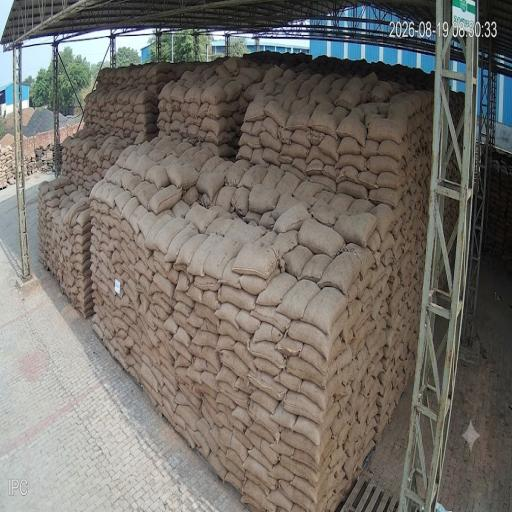Rice-bag-10: (288, 310, 347, 359), (303, 288, 347, 336), (294, 405, 339, 445), (319, 252, 361, 294), (298, 220, 344, 257), (281, 428, 331, 462), (203, 238, 243, 278), (278, 280, 319, 319), (287, 356, 336, 388), (284, 391, 333, 423), (299, 337, 341, 373), (233, 244, 277, 278), (335, 212, 377, 247), (188, 235, 222, 275), (299, 375, 337, 409), (257, 273, 296, 305), (165, 224, 197, 261), (249, 335, 284, 367), (156, 218, 187, 254), (282, 455, 319, 485), (251, 305, 291, 332), (249, 403, 279, 439), (244, 478, 276, 511), (176, 234, 206, 269), (274, 204, 311, 232), (244, 456, 276, 488), (249, 371, 285, 399), (166, 160, 198, 190), (139, 209, 172, 238), (281, 482, 314, 511), (368, 118, 406, 143), (337, 114, 367, 145), (149, 185, 181, 214), (186, 203, 218, 232), (309, 104, 337, 137), (145, 215, 172, 249), (226, 219, 264, 243), (284, 245, 312, 277), (197, 169, 224, 202), (220, 285, 255, 310), (301, 254, 332, 282), (250, 184, 279, 213), (273, 194, 305, 220), (371, 204, 395, 238), (347, 244, 375, 273), (221, 350, 248, 380), (219, 320, 251, 344), (218, 403, 245, 430), (219, 382, 248, 407), (287, 104, 314, 130), (311, 200, 338, 225), (292, 447, 320, 471), (173, 308, 196, 337), (197, 418, 218, 449), (264, 101, 289, 127), (294, 181, 322, 204), (254, 322, 283, 343), (292, 476, 317, 500), (271, 403, 296, 427), (174, 391, 199, 415), (216, 302, 239, 328), (240, 165, 266, 188), (251, 390, 278, 412), (220, 258, 240, 287), (201, 118, 230, 138), (275, 231, 297, 257), (378, 139, 404, 161), (370, 188, 400, 207), (234, 342, 255, 369), (236, 310, 260, 333), (195, 303, 219, 326), (201, 81, 225, 104), (240, 274, 267, 294), (368, 156, 398, 174), (307, 146, 335, 165), (226, 162, 249, 185), (250, 447, 272, 471), (130, 204, 147, 235), (275, 371, 301, 391), (231, 429, 247, 461), (269, 489, 292, 511), (276, 172, 300, 193), (206, 103, 237, 119), (202, 346, 221, 372), (232, 187, 249, 216), (320, 135, 338, 162), (154, 272, 174, 296), (137, 183, 157, 207), (193, 329, 218, 348), (216, 186, 235, 211), (207, 217, 233, 235), (339, 182, 368, 198), (177, 406, 198, 428), (250, 423, 273, 443), (217, 364, 236, 388), (260, 439, 278, 464), (208, 453, 226, 478), (339, 154, 365, 171), (262, 166, 283, 187), (255, 357, 279, 375), (330, 193, 354, 211), (260, 131, 281, 151), (204, 143, 234, 157), (338, 136, 360, 155), (270, 463, 293, 481), (224, 79, 242, 102), (142, 363, 157, 390), (310, 175, 335, 191), (122, 197, 139, 220), (282, 143, 308, 158), (205, 131, 232, 145), (195, 431, 210, 456), (282, 165, 307, 180), (135, 258, 152, 280), (377, 172, 400, 188), (195, 275, 219, 290), (106, 186, 123, 207), (115, 190, 132, 211), (348, 199, 373, 213), (358, 171, 377, 189), (246, 102, 264, 121), (292, 130, 311, 148), (202, 290, 219, 310), (159, 81, 176, 101), (337, 166, 358, 182), (176, 291, 194, 309), (233, 408, 251, 426), (217, 392, 236, 409), (240, 134, 261, 149), (263, 117, 278, 138), (204, 396, 216, 422), (194, 358, 216, 372), (251, 148, 268, 166), (169, 85, 187, 102), (187, 283, 203, 302), (275, 440, 294, 456), (183, 186, 199, 205), (172, 200, 189, 217), (201, 371, 216, 390), (246, 428, 261, 447), (175, 327, 190, 346), (121, 220, 134, 241), (367, 230, 380, 251), (175, 301, 192, 317), (236, 377, 253, 393), (307, 159, 324, 175), (362, 140, 378, 157), (90, 180, 104, 199), (381, 232, 394, 252), (264, 148, 280, 164), (218, 335, 235, 350), (187, 365, 202, 382), (189, 310, 203, 328), (308, 130, 324, 145), (185, 86, 200, 102), (177, 272, 189, 291), (220, 427, 232, 446), (202, 319, 218, 333), (78, 210, 91, 227), (101, 184, 113, 202), (323, 166, 337, 181), (292, 158, 306, 173), (237, 146, 252, 160), (279, 128, 293, 143), (110, 203, 120, 222), (99, 261, 109, 280), (251, 121, 263, 136), (76, 232, 90, 244), (174, 412, 185, 427), (242, 122, 254, 134), (99, 202, 110, 214), (233, 113, 243, 126), (158, 111, 170, 121), (226, 117, 235, 130), (279, 156, 293, 164), (159, 97, 166, 111)
other: (0, 0, 511, 511), (0, 175, 244, 511), (439, 256, 511, 511), (464, 39, 496, 361), (228, 37, 434, 72), (57, 38, 110, 141), (367, 383, 411, 491), (22, 44, 54, 173), (161, 32, 228, 61), (341, 478, 398, 511), (498, 75, 511, 125), (0, 107, 13, 153), (0, 52, 12, 101), (116, 43, 140, 66), (0, 153, 15, 187), (495, 121, 511, 152), (140, 36, 156, 63)
pile: (93, 58, 434, 511), (91, 67, 433, 511), (39, 60, 214, 322), (157, 50, 311, 156), (487, 156, 511, 255)
